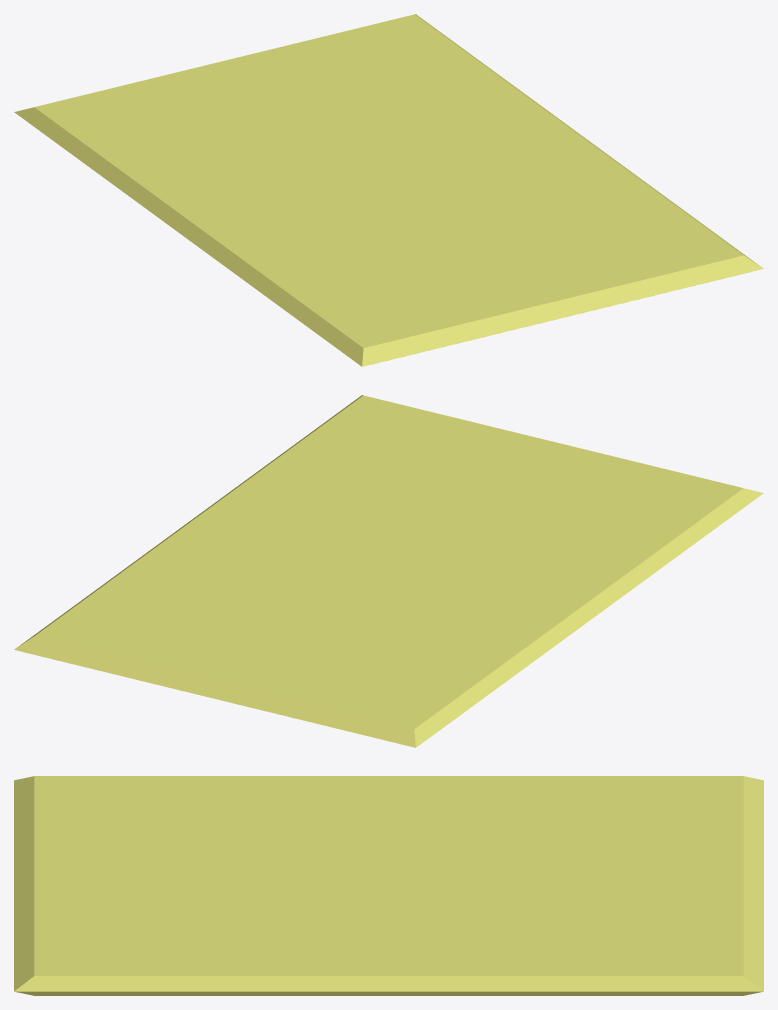
The model's file is envelope_01_mockup.fbx.
3 views of the same model, one above another, from view 1: azimuth 30°, elevation 25°; view 2: azimuth 150°, elevation 25°; view 3: azimuth 270°, elevation 25° (orthographic). The views are drawn at different scales.
Parts seen in each view (by area): view 1: Plane; view 2: Plane; view 3: Plane.
Part boxes in pixels (x1,y1,x2,y2): Plane: [14, 14, 763, 366]; Plane: [14, 395, 763, 747]; Plane: [14, 776, 763, 995].
Bounding box in the file's own units: 0.1621 × 0.2431 × 0.0071.
